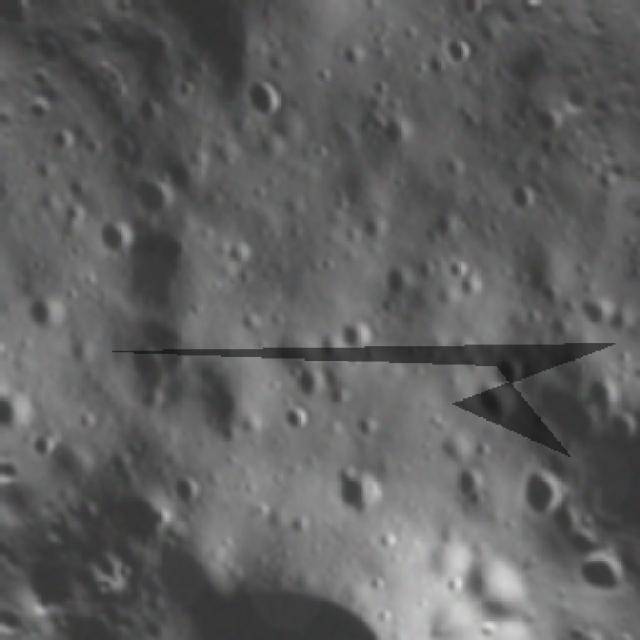crater: (169, 0, 297, 114), (101, 330, 192, 425), (316, 448, 396, 528), (101, 474, 179, 554), (503, 452, 580, 530), (461, 367, 525, 433), (122, 161, 182, 222), (16, 282, 76, 342), (87, 204, 142, 262), (237, 69, 291, 125), (160, 459, 212, 510), (330, 307, 381, 358), (440, 458, 491, 509), (367, 102, 418, 153), (482, 344, 532, 394), (283, 354, 332, 404), (496, 170, 546, 219), (574, 286, 623, 334), (350, 202, 398, 250), (374, 254, 420, 301), (434, 26, 480, 72), (522, 96, 568, 142), (542, 492, 586, 537), (276, 394, 318, 438), (600, 400, 640, 446), (128, 89, 170, 131), (102, 126, 142, 168), (333, 35, 373, 76), (530, 276, 570, 316), (222, 232, 260, 271), (452, 263, 490, 302), (435, 147, 474, 185), (165, 68, 202, 105), (232, 302, 268, 338), (346, 405, 383, 440), (25, 422, 60, 458), (438, 250, 474, 285), (180, 138, 214, 174), (167, 626, 225, 640), (311, 60, 337, 88)
